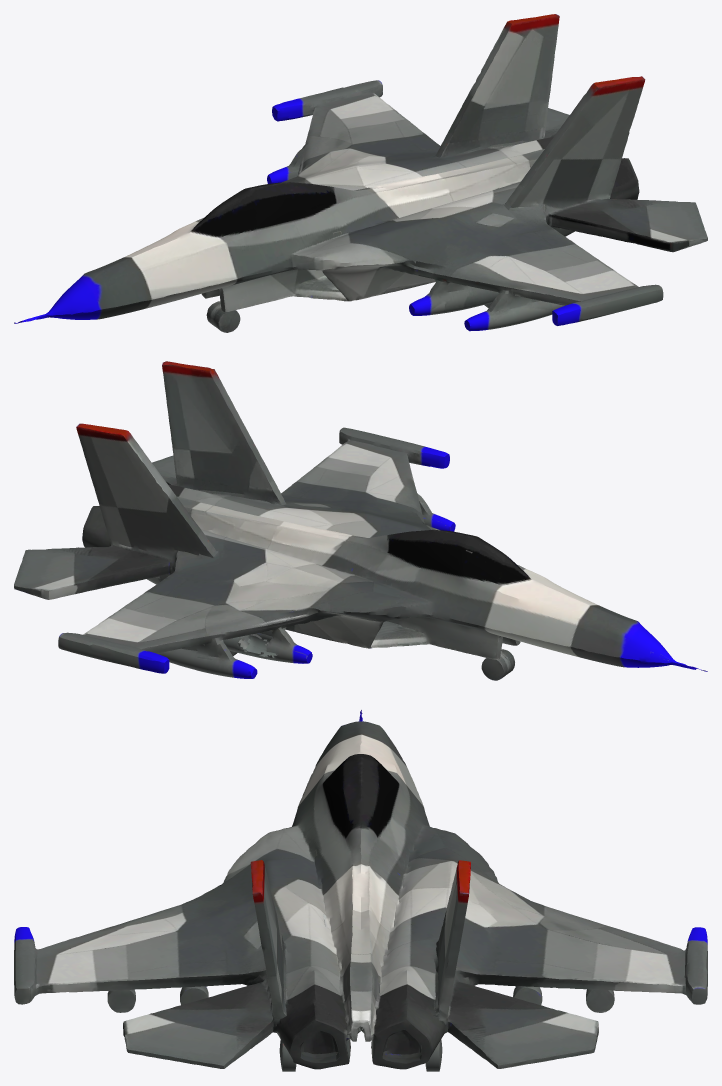
File: Meshy_AI_Polygonal_Phantom_Jet_0425085406_texture.glb
3 views of the same model, one above another, from view 1: azimuth 30°, elevation 25°; view 2: azimuth 150°, elevation 25°; view 3: azimuth 270°, elevation 25° (orthographic). The views are drawn at different scales.
Parts seen in each view (by area): view 1: output; view 2: output; view 3: output.
Boxes of the visible parts, box(x1,y1,x2,y2) form: output: box(14, 14, 707, 332); output: box(14, 361, 707, 680); output: box(14, 710, 707, 1071).
Size of the model in its own units: 1.89 by 0.6205 by 1.51.
Materials: 1 (1 with a texture image).
